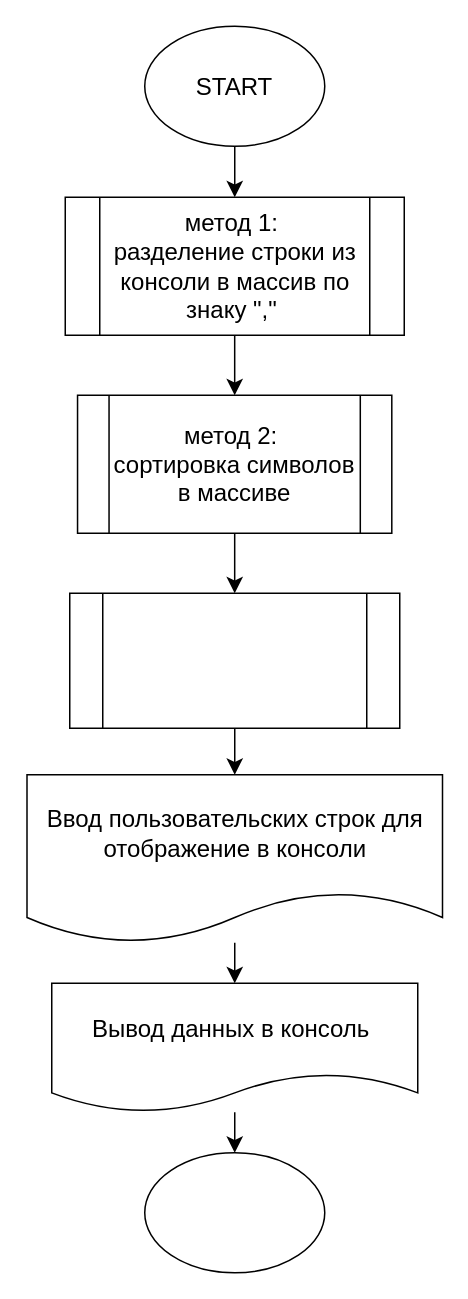
The diagram is 468 pixels wide and 1299 high, and some of its shapes have lost their labels. Each missing label, with the centre of its shape:
END: the point at 234,1212
метод 3: вывод информации из массива: the point at 234,660
